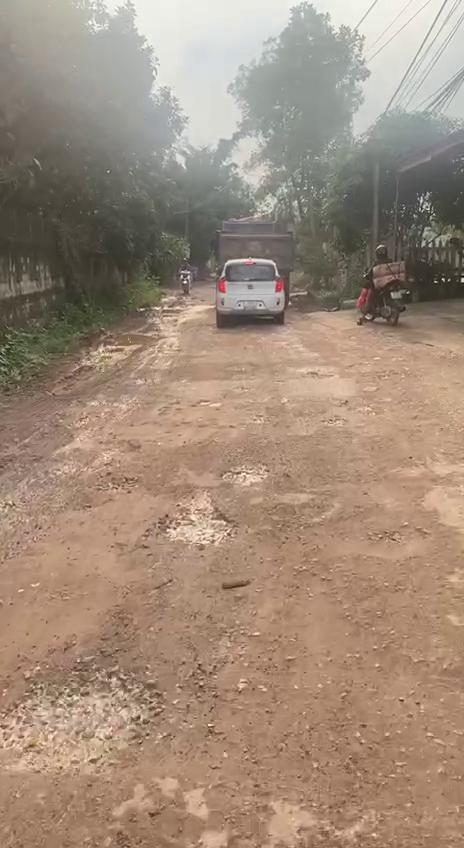pothole: (0, 658, 173, 783), (300, 504, 447, 562), (149, 494, 238, 552), (87, 438, 146, 494), (220, 463, 278, 488)
